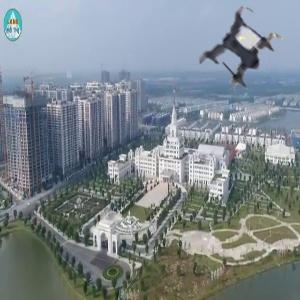drone: (193, 5, 289, 101)
